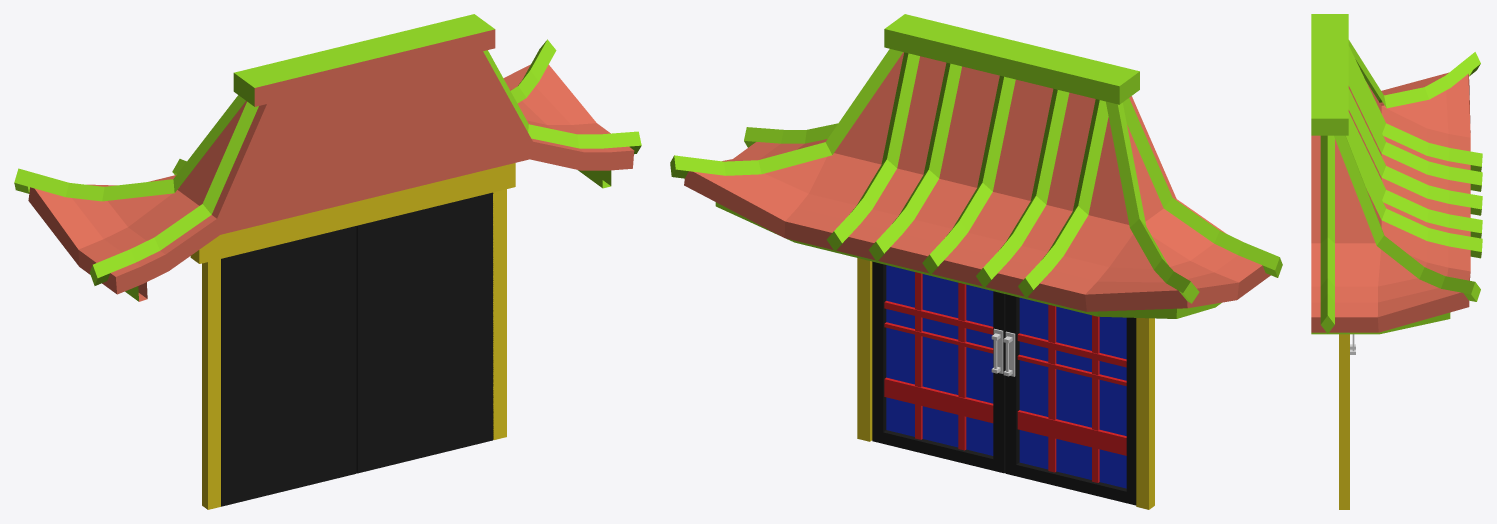
File: JapaneseKap.fbx
3 views of the same model, side by side, from view 1: azimuth 30°, elevation 25°; view 2: azimuth 150°, elevation 25°; view 3: azimuth 270°, elevation 25° (orthographic). The views are drawn at different scales.
Parts seen in each view (by area): view 1: Kapı Çevresi, Sool kanat, Sağğ Kanat, Double_Door; view 2: Kapı Çevresi, Sool kanat, Sağğ Kanat, Double_Door; view 3: Kapı Çevresi, Double_Door.
Boxes of the visible parts, x1,y1,x2,y2 form: Kapı Çevresi: (14, 14, 641, 301); Sool kanat: (356, 192, 492, 473); Sağğ Kanat: (221, 226, 356, 506); Double_Door: (190, 163, 515, 509); Kapı Çevresi: (670, 14, 1282, 318); Sool kanat: (872, 261, 1005, 473); Sağğ Kanat: (1003, 294, 1136, 505); Double_Door: (857, 258, 1154, 509); Kapı Çevresi: (1311, 14, 1482, 334); Double_Door: (1339, 334, 1349, 509).
Size of the model in its own units: 1308 by 974 by 399.
